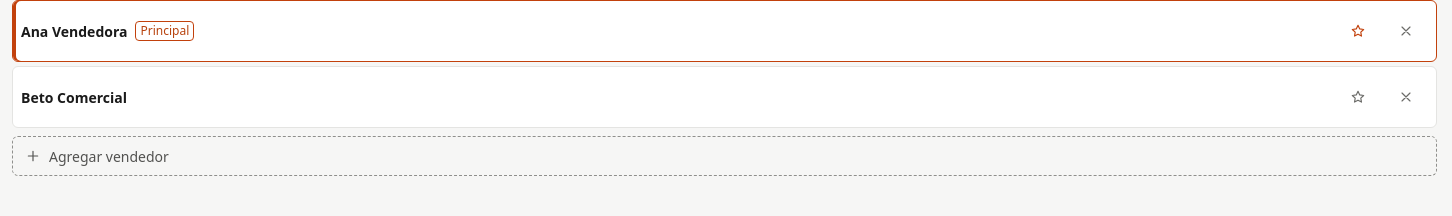
it: Los vendedores del documento › el que ya está no se vuelve a ofrecer
Click the button "Agregar vendedor" at x=109, y=156, box [12, 136, 1437, 176]
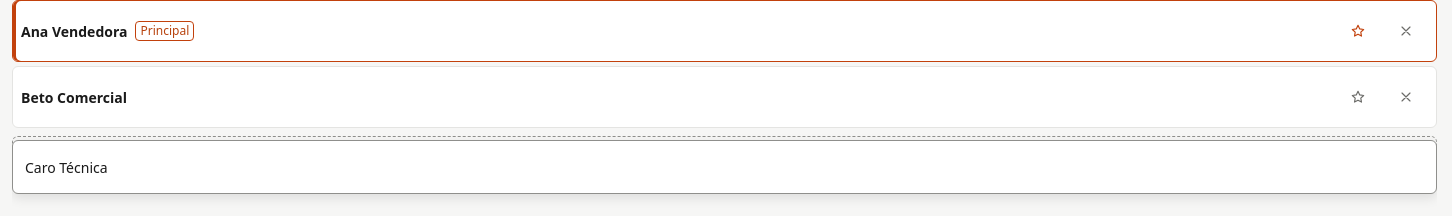
Now the option "Caro Técnica" is shown, box [17, 145, 1432, 189]
